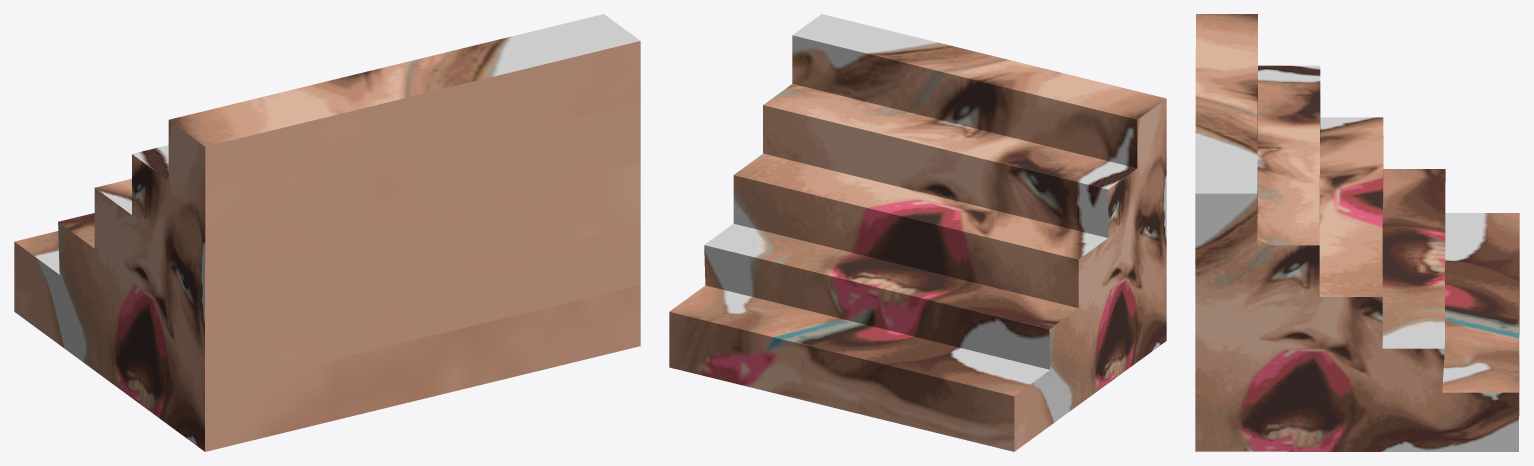
File: firstLevelStairs.fbx
3 views of the same model, side by side, from view 1: azimuth 30°, elevation 25°; view 2: azimuth 150°, elevation 25°; view 3: azimuth 270°, elevation 25° (orthographic). The views are drawn at different scales.
Parts seen in each view (by area): view 1: Stairs; view 2: Stairs; view 3: Stairs.
Boxes of the visible parts, x1,y1,x2,y2 form: Stairs: (14,14,640,451); Stairs: (669,14,1166,451); Stairs: (1195,14,1519,451).
Size of the model in its own units: 376 by 252 by 287.
1 material, 1 textured.
